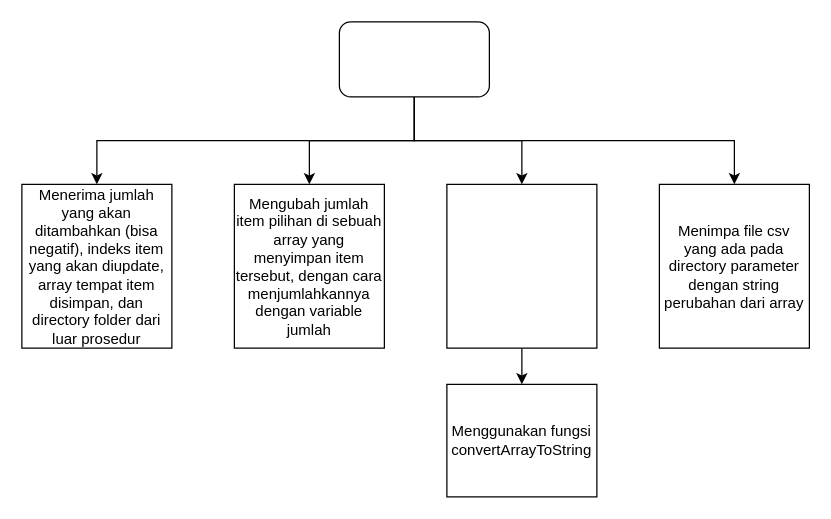
The diagram is 831 pixels wide and 519 high, and some of its shapes have lost their labels. Here are the shapes that lost their labels. From the top down, the box of each, then its label:
(338, 21, 489, 97): procedure updateJumlahItem
(446, 183, 597, 348): Mengubah array yang telah berubah ke bentuk string
